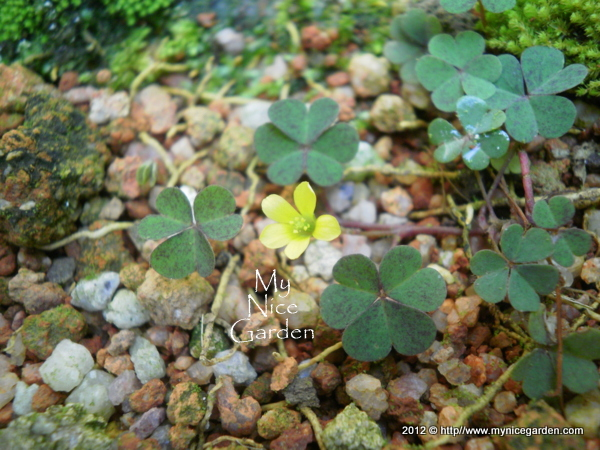oxalis: (441, 197, 600, 380), (421, 32, 585, 188), (229, 52, 382, 205), (126, 158, 250, 305), (305, 262, 456, 359)
